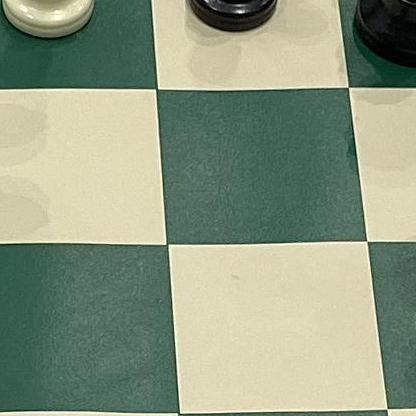black-pawn: (182, 0, 294, 41)
white-pawn: (0, 0, 108, 49)
